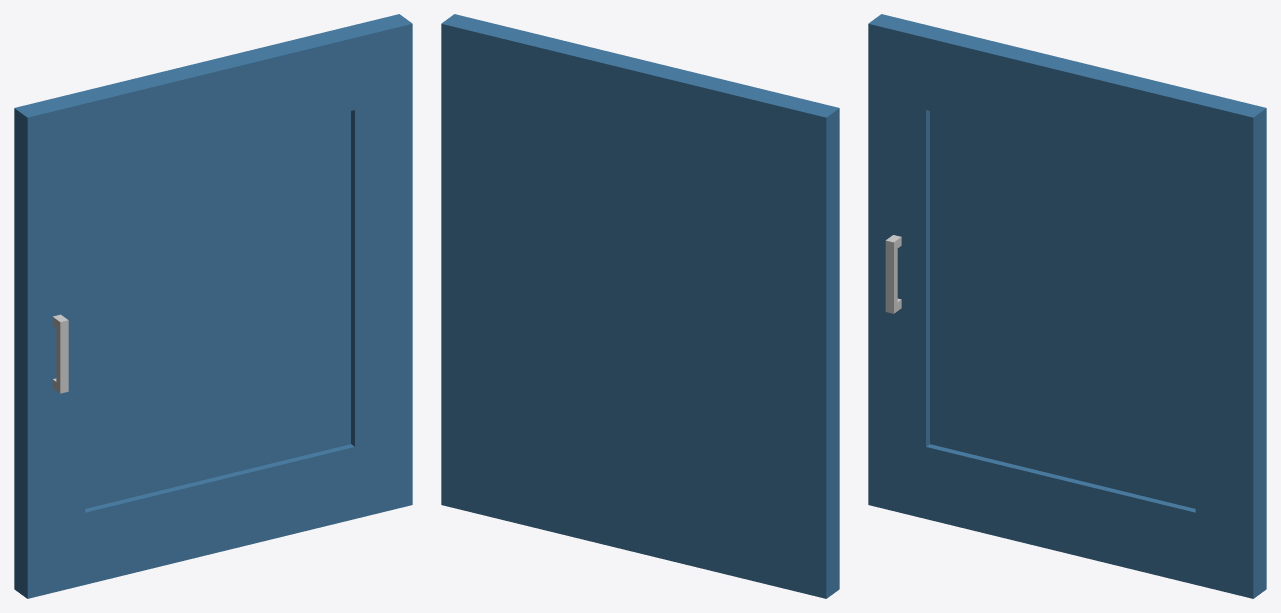
File: H_Cabinet_Door_3.fbx
The picture shows the model from 3 angles, left to right: view 1: azimuth 30°, elevation 25°; view 2: azimuth 150°, elevation 25°; view 3: azimuth 330°, elevation 25°; orthographic projection.
Parts seen in each view (by area): view 1: H_Cabinet_Door_3; view 2: H_Cabinet_Door_3; view 3: H_Cabinet_Door_3.
Boxes of the visible parts, left/top/right/bottom form: H_Cabinet_Door_3: left=14, top=14, right=412, bottom=598; H_Cabinet_Door_3: left=441, top=14, right=839, bottom=598; H_Cabinet_Door_3: left=868, top=14, right=1266, bottom=598.
Size of the model in its own units: 306 by 365 by 28.91.
